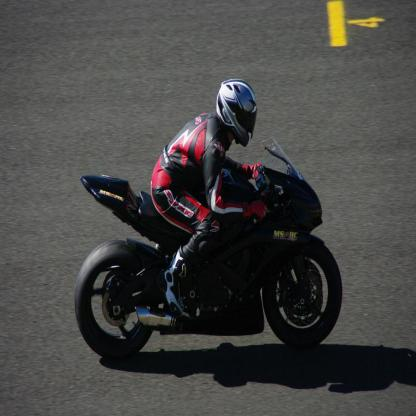Helmet: (213, 76, 259, 150)
